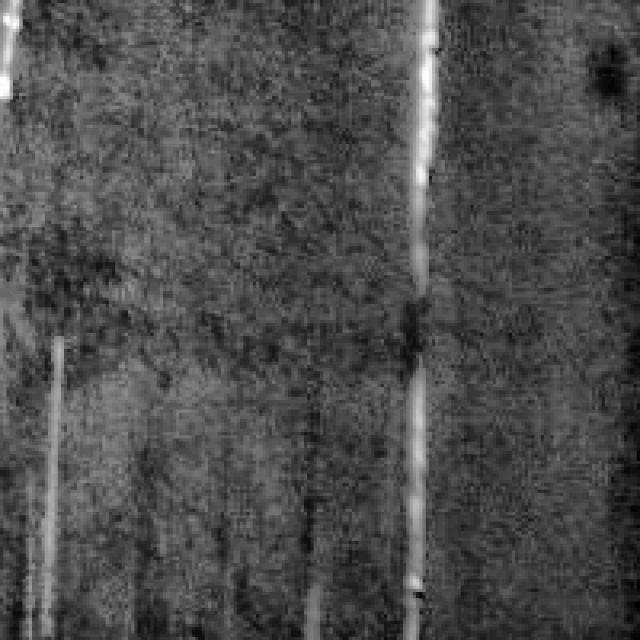Inclusion: (390, 364, 436, 634), (400, 0, 445, 253)
